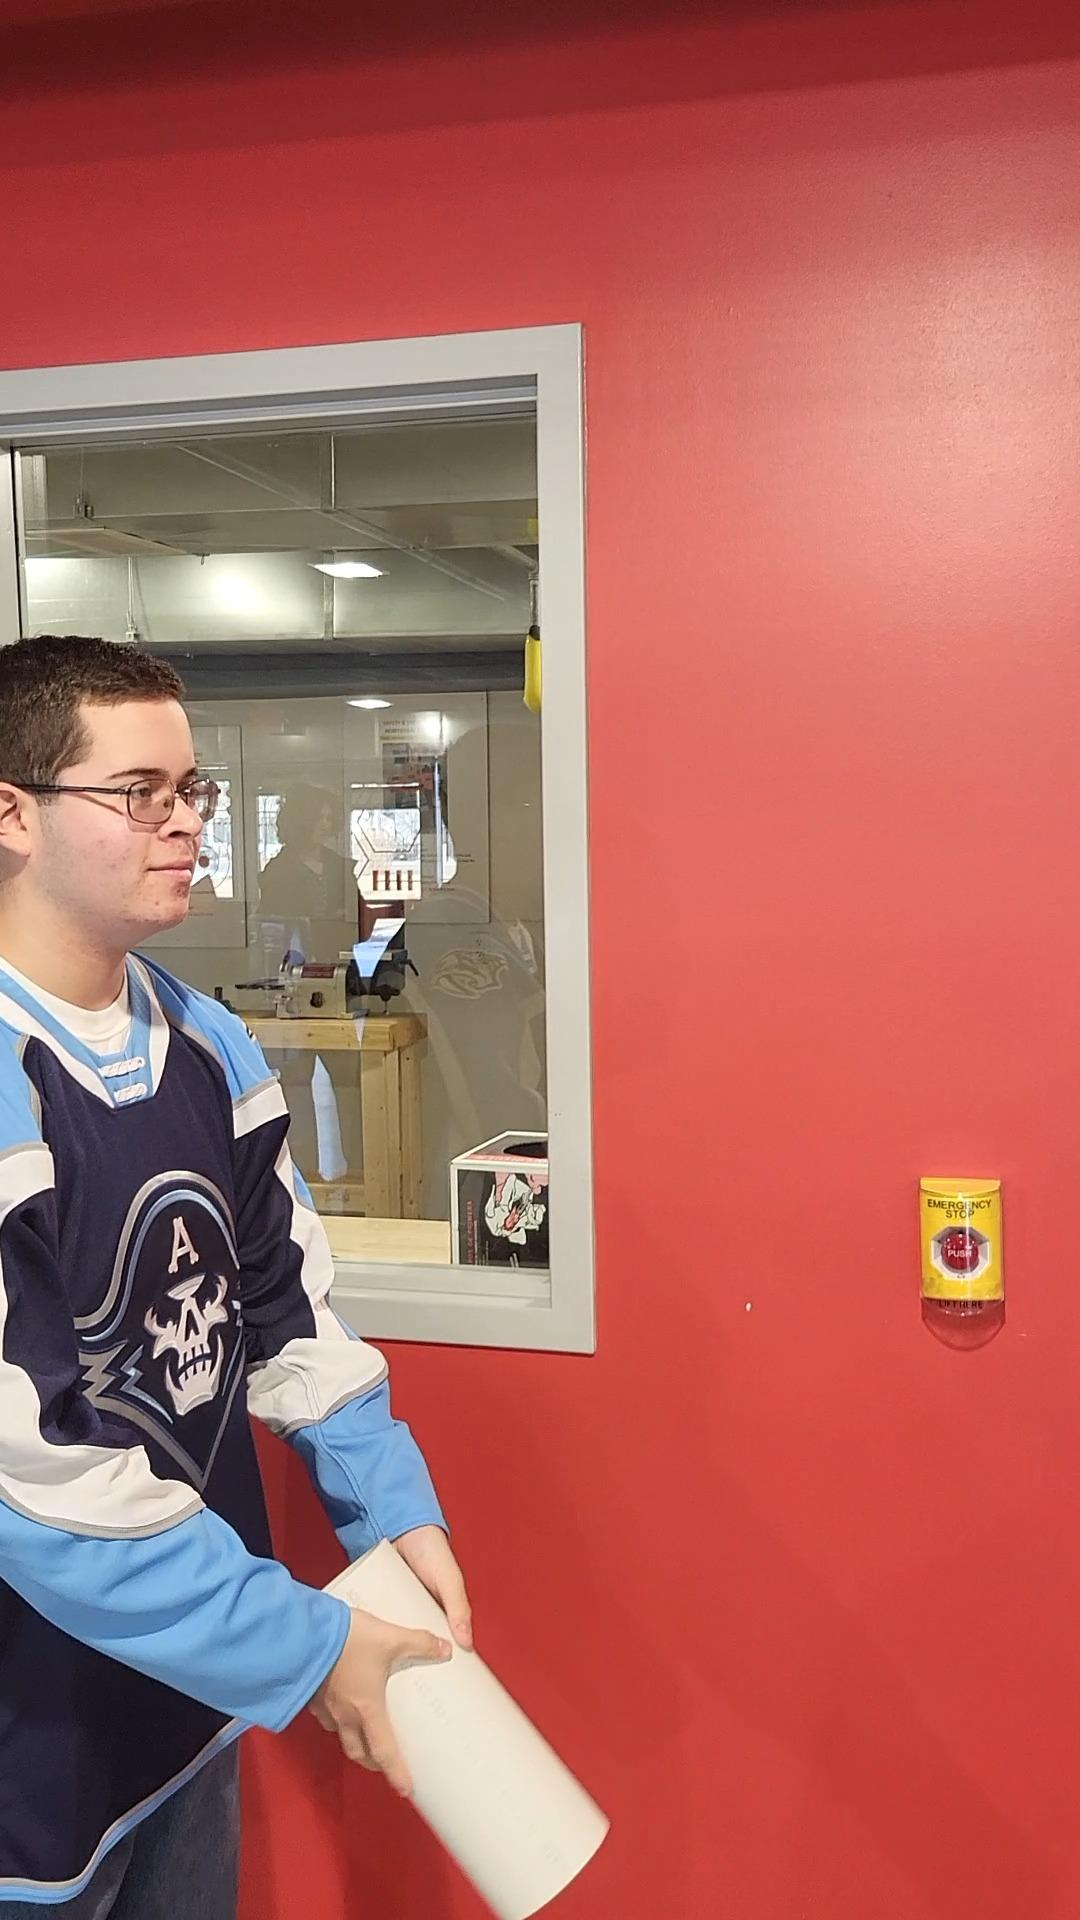coral: (307, 1540, 611, 1920)
